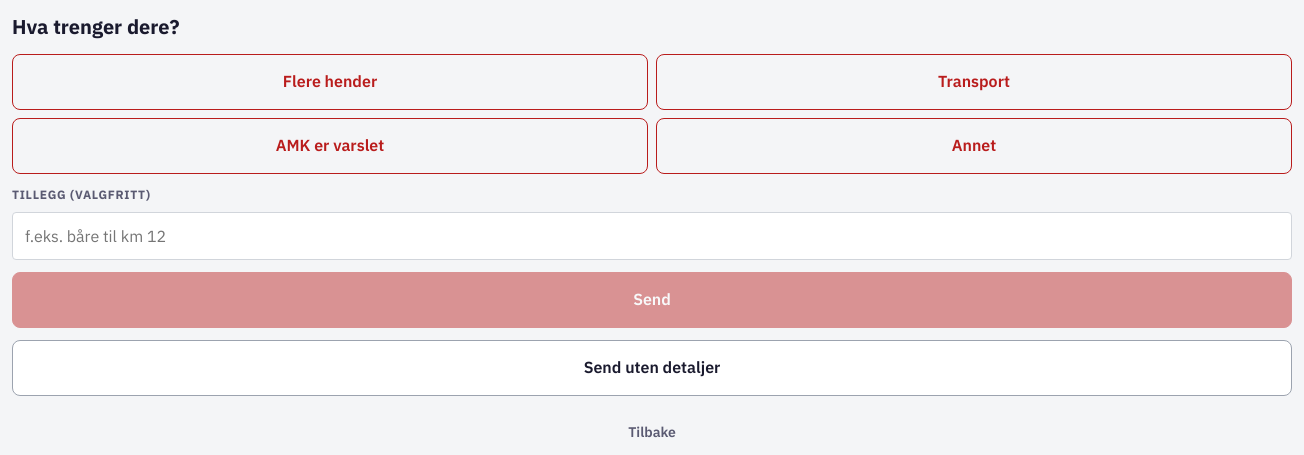
Test case: AssistanceReasonStep › disables "Send" until a reason is picked
This screenshot has width=1304, height=455.
Expected: the button with test id "firstaid-assist-reason-send" is disabled, [12,272,1292,328]
Click the radio button with test id "firstaid-assist-reason-transport".
click(974, 82)  # box [656,54,1292,110]
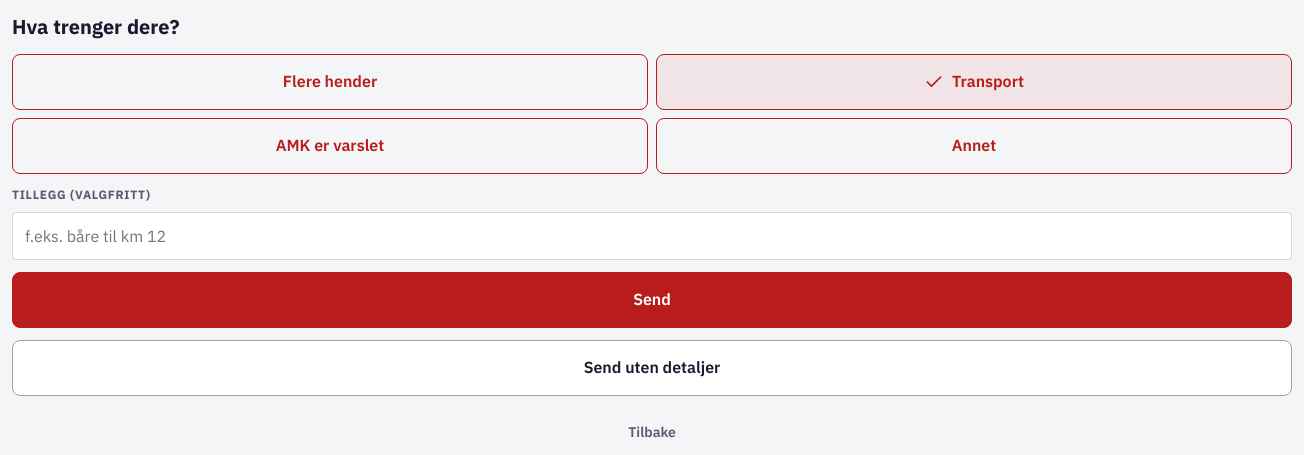
Now the button with test id "firstaid-assist-reason-send" is enabled, box [12,272,1292,328]
